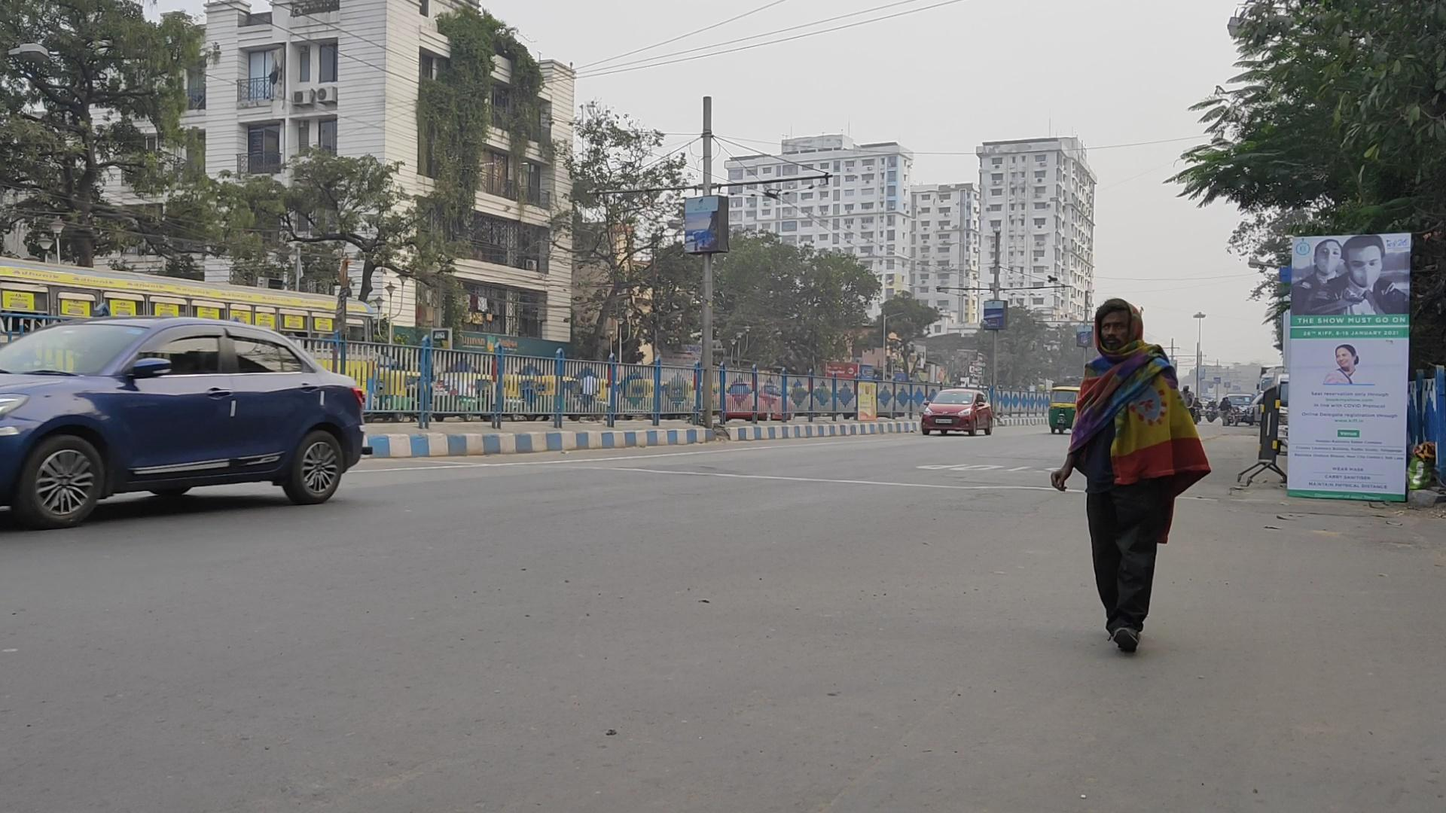Auto: (1047, 384, 1080, 436)
bike: (1204, 399, 1219, 423)
car: (2, 315, 373, 528), (920, 388, 993, 438), (1226, 391, 1255, 426)
